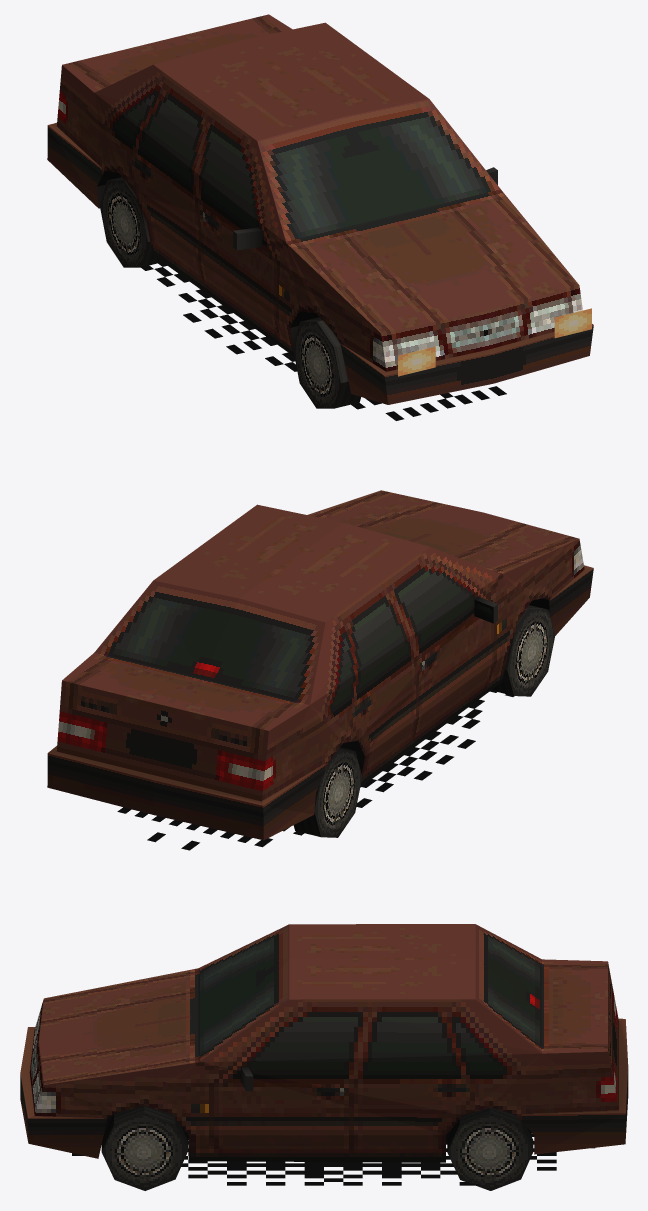
The model's file is sedan_red.glb.
3 renders of one model, top to bottom at view 1: azimuth 30°, elevation 25°; view 2: azimuth 150°, elevation 25°; view 3: azimuth 270°, elevation 25°, orthographic. The views are drawn at different scales.
Parts seen in each view (by area): view 1: Body, BlobShadow, Headlight_1, Headlight_-1; view 2: Body, BlobShadow; view 3: Body, BlobShadow.
Boxes of the visible parts, bbox=[...] form: Body: bbox=[47, 14, 593, 408]; BlobShadow: bbox=[141, 262, 506, 420]; Headlight_1: bbox=[554, 308, 591, 338]; Headlight_-1: bbox=[398, 346, 435, 376]; Body: bbox=[47, 490, 593, 840]; BlobShadow: bbox=[117, 690, 514, 850]; Body: bbox=[20, 924, 628, 1190]; BlobShadow: bbox=[72, 1133, 594, 1185].
Size of what is drawn, in the model's own units: 2.19 by 1.58 by 4.8.
3 materials, 3 textured.
